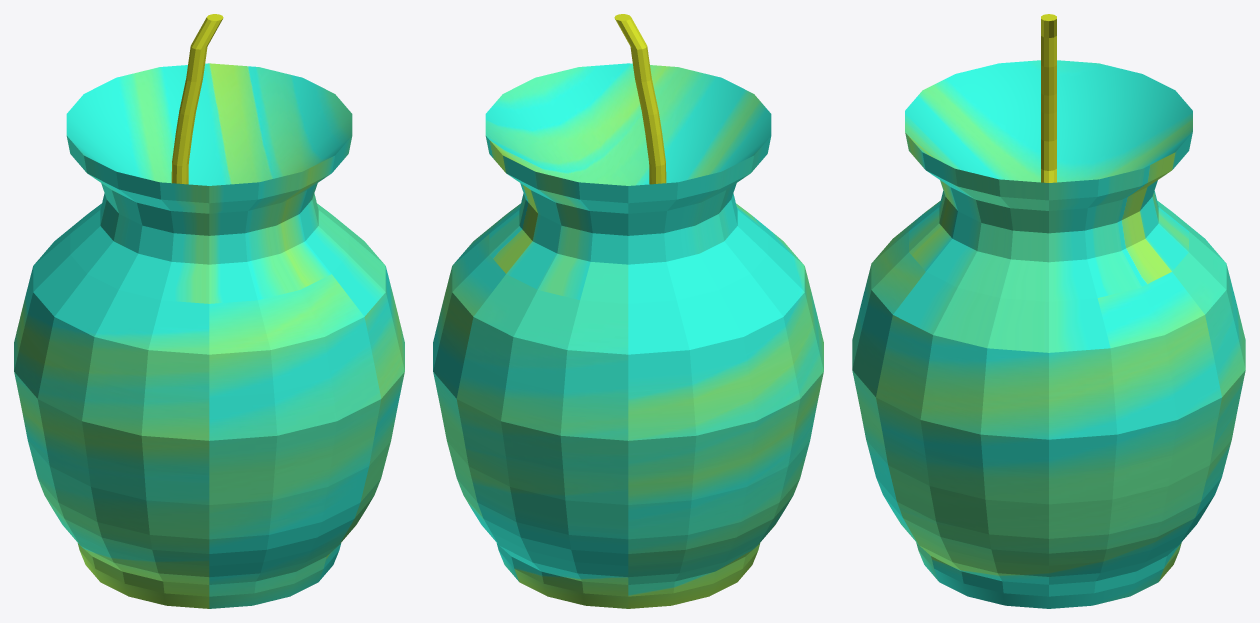
Rendered from napthasmooth.fbx.
3 renders of one model, left to right at view 1: azimuth 30°, elevation 25°; view 2: azimuth 150°, elevation 25°; view 3: azimuth 270°, elevation 25°, orthographic.
Parts seen in each view (by area): view 1: pCylinder1, pCylinder2; view 2: pCylinder1, pCylinder2; view 3: pCylinder1, pCylinder2.
Boxes of the visible parts, left/top/right/bottom form: pCylinder1: left=14, top=63, right=404, bottom=608; pCylinder2: left=171, top=14, right=223, bottom=184; pCylinder1: left=433, top=63, right=823, bottom=608; pCylinder2: left=614, top=14, right=666, bottom=184; pCylinder1: left=852, top=60, right=1245, bottom=608; pCylinder2: left=1041, top=14, right=1056, bottom=182.
Size of the model in its own units: 23.53 by 35.13 by 23.18.
2 materials, 1 textured.
